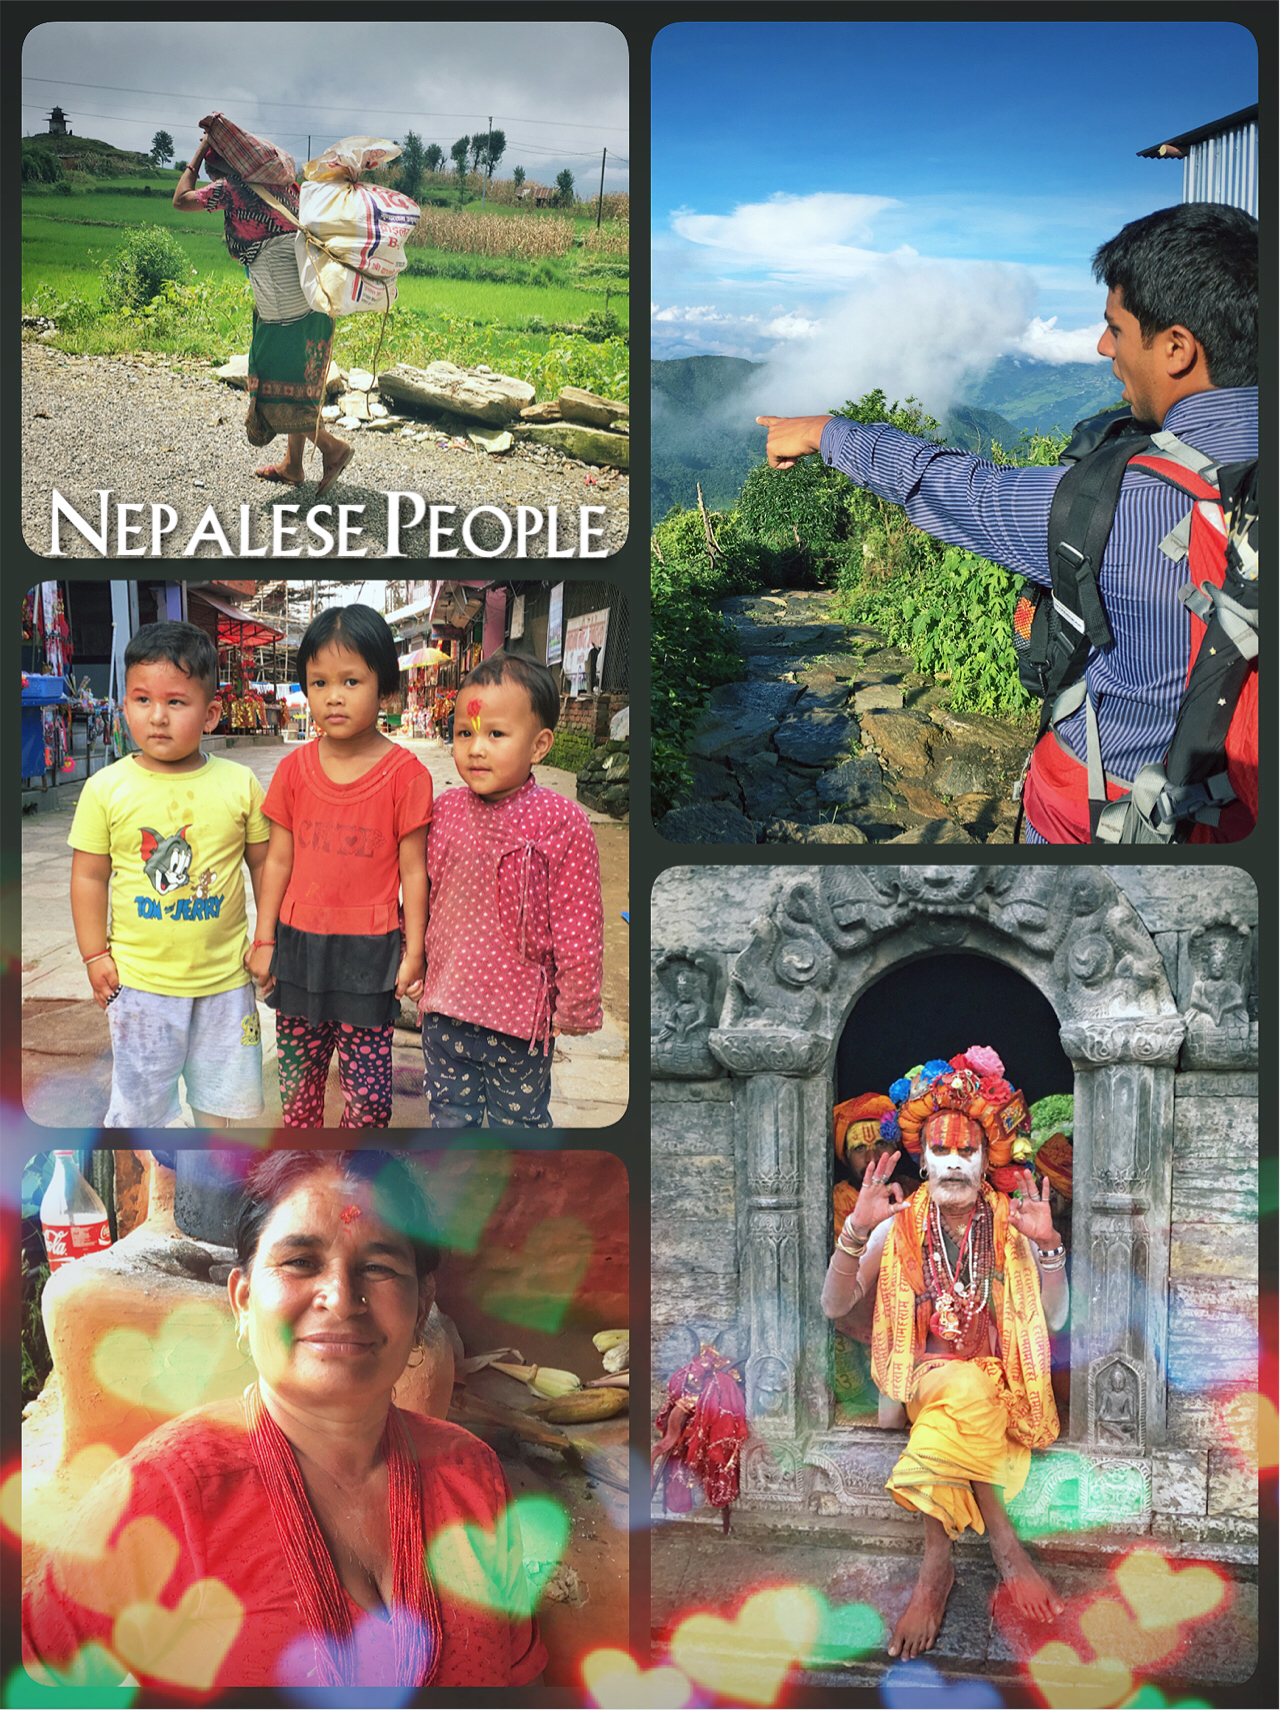human: (750, 196, 1272, 842), (38, 1146, 566, 1685), (788, 1033, 1113, 1674), (57, 608, 270, 1135), (164, 108, 440, 498), (243, 599, 432, 1133), (415, 653, 606, 1126)
